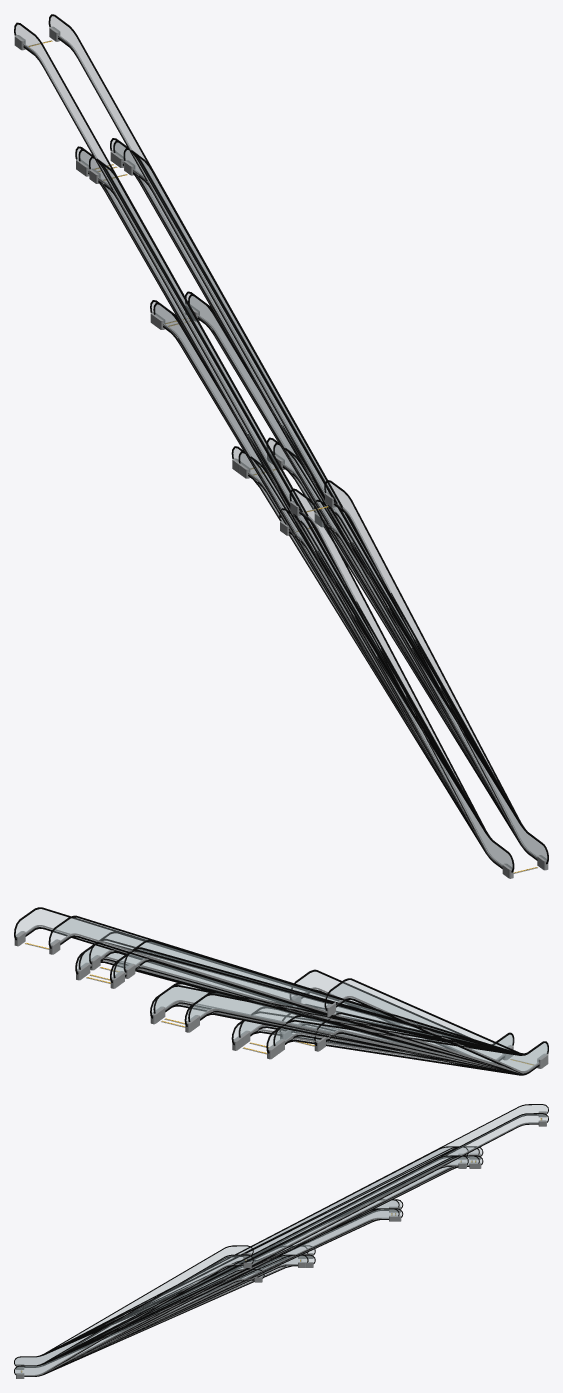
Rendered from mobile.glb.
3 renders of one model, top to bottom at view 1: azimuth 30°, elevation 25°; view 2: azimuth 150°, elevation 25°; view 3: azimuth 270°, elevation 25°, orthographic. The views are drawn at different scales.
Parts seen in each view (by area): view 1: VIS_body (×10); view 2: VIS_body (×10); view 3: VIS_body (×10).
Boxes of the visible parts, x1,y1,x2,y2 form: VIS_body (×10): (14,14,548,878); VIS_body (×10): (14,907,548,1075); VIS_body (×10): (14,1104,548,1378).
Bounding box in the file's own units: 1.67 × 20.08 × 36.69.
Materials: 20 (20 with a texture image).
